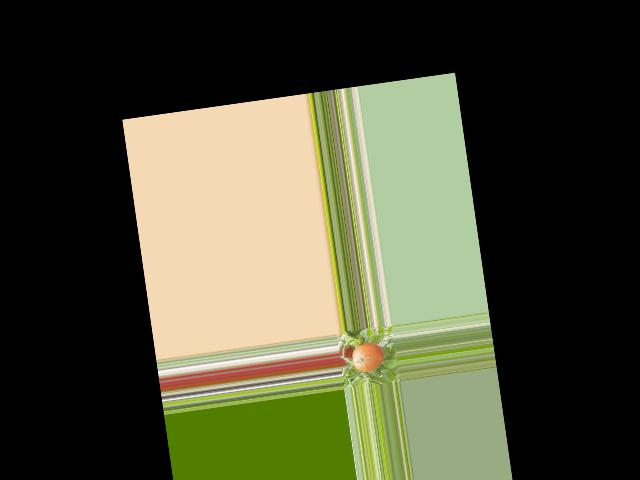tomato: (350, 341, 384, 373)
